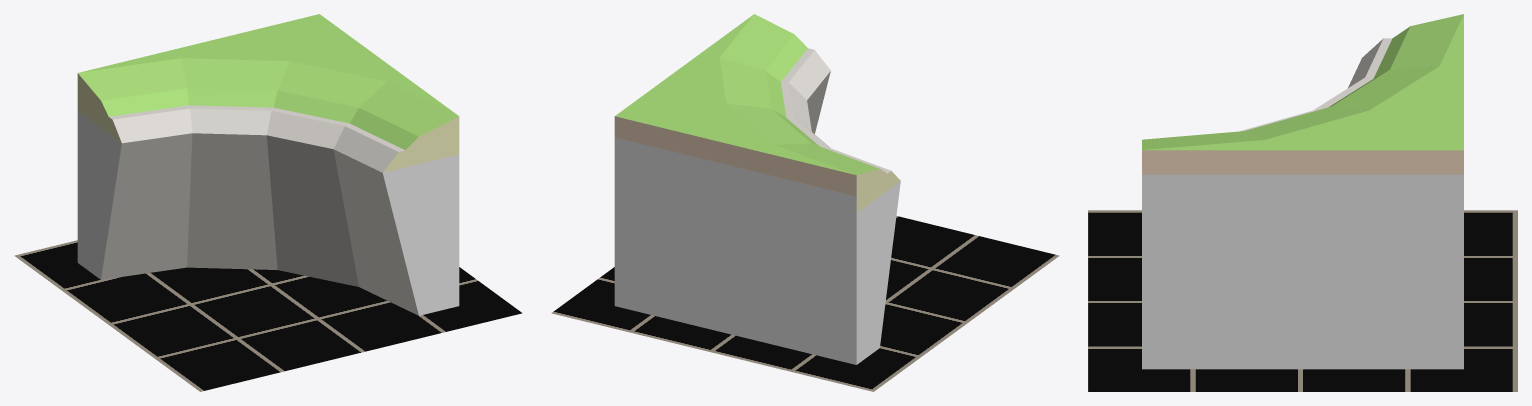
The model's file is Basic_Curve_Inner_3x3_Top.glb.
3 renders of one model, left to right at view 1: azimuth 30°, elevation 25°; view 2: azimuth 150°, elevation 25°; view 3: azimuth 270°, elevation 25°, orthographic. The views are drawn at different scales.
Parts seen in each view (by area): view 1: Basic_Curve_Inner_3x3_Top, Floor; view 2: Basic_Curve_Inner_3x3_Top, Floor; view 3: Basic_Curve_Inner_3x3_Top, Floor.
Part boxes in pixels (x1,y1,x2,y2): Basic_Curve_Inner_3x3_Top: (77,14,459,315); Floor: (14,240,522,391); Basic_Curve_Inner_3x3_Top: (614,14,900,364); Floor: (551,216,1059,391); Basic_Curve_Inner_3x3_Top: (1142,14,1463,369); Floor: (1088,210,1517,391).
Bounding box in the file's own units: 400 × 225 × 400.
Materials: 6 (1 with a texture image).
